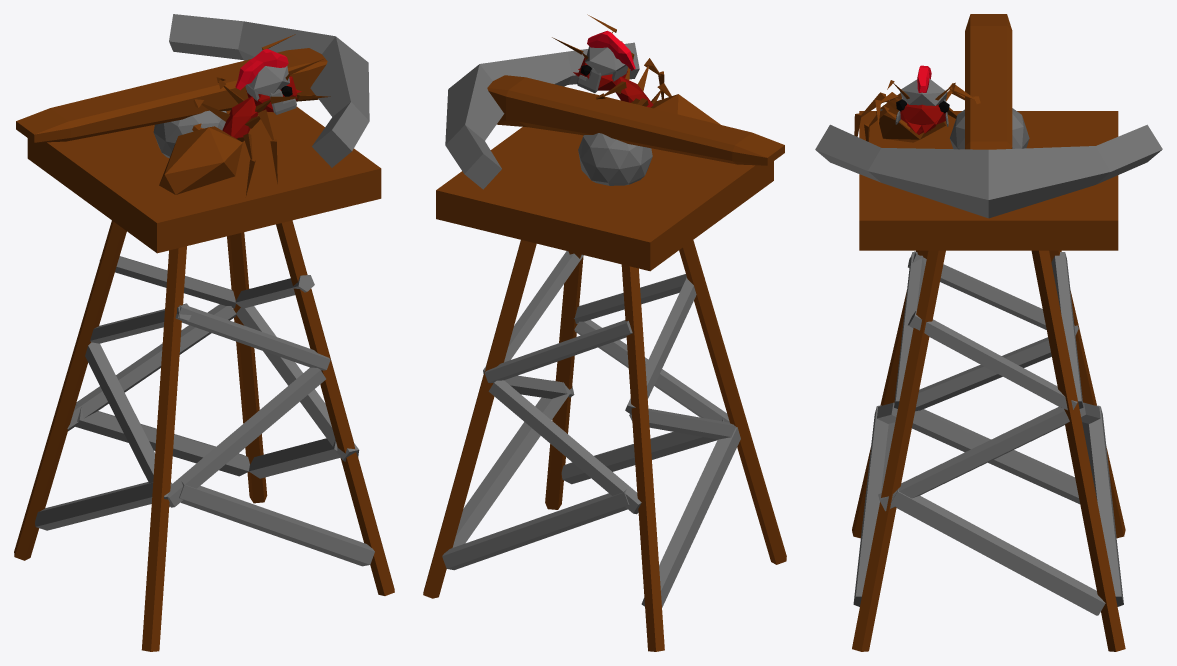
Rendered from ballista.glb.
The picture shows the model from 3 angles, left to right: view 1: azimuth 30°, elevation 25°; view 2: azimuth 150°, elevation 25°; view 3: azimuth 270°, elevation 25°; orthographic projection. The views are drawn at different scales.
Parts seen in each view (by area): view 1: Tower, Ballista, body; view 2: Tower, Ballista, body; view 3: Tower, Ballista, body.
Part boxes in pixels (left/top/right/bottom): Tower: left=14, top=106, right=394, bottom=651; Ballista: left=16, top=14, right=369, bottom=167; body: left=159, top=34, right=330, bottom=195; Tower: left=423, top=127, right=786, bottom=651; Ballista: left=445, top=42, right=784, bottom=189; body: left=552, top=14, right=720, bottom=124; Tower: left=852, top=111, right=1125, bottom=651; Ballista: left=815, top=14, right=1162, bottom=218; body: left=854, top=65, right=980, bottom=142.
Bounding box in the file's own units: 3.48 × 5.24 × 3.05.
